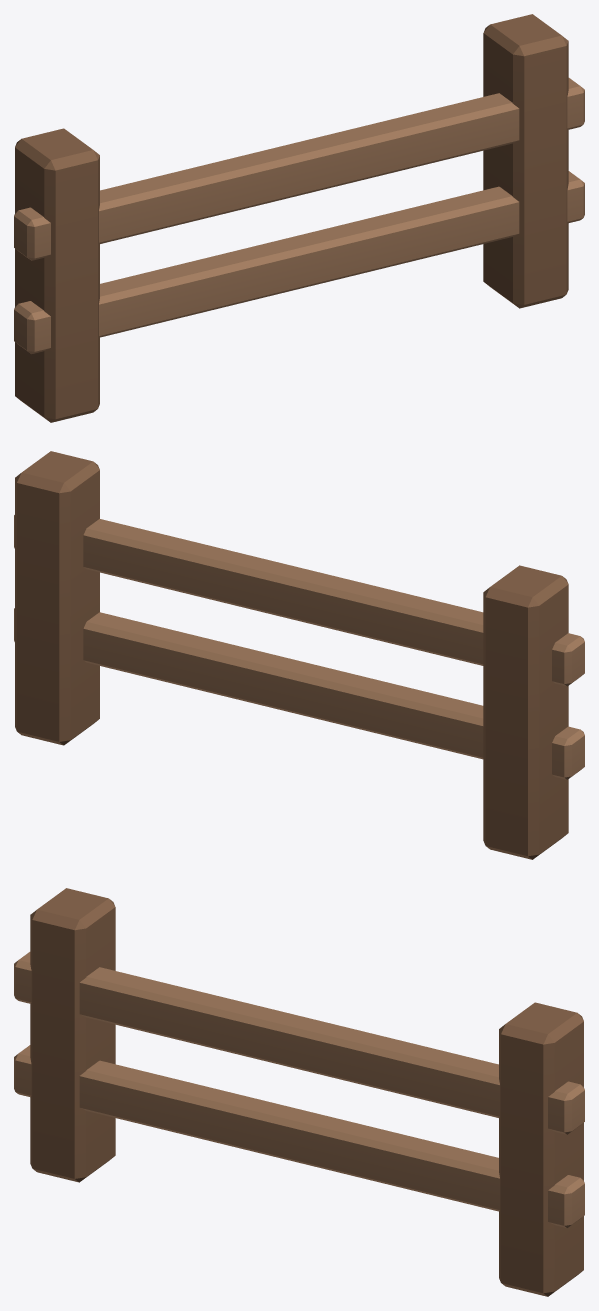
The model's file is fence.glb.
The picture shows the model from 3 angles, top to bottom: view 1: azimuth 30°, elevation 25°; view 2: azimuth 150°, elevation 25°; view 3: azimuth 330°, elevation 25°; orthographic projection.
Parts seen in each view (by area): view 1: fence; view 2: fence; view 3: fence.
Boxes of the visible parts, x1,y1,x2,y2 form: fence: (14,14,584,422); fence: (14,451,584,859); fence: (14,888,584,1296).
Size of the model in its own units: 1 by 0.45 by 0.12.
